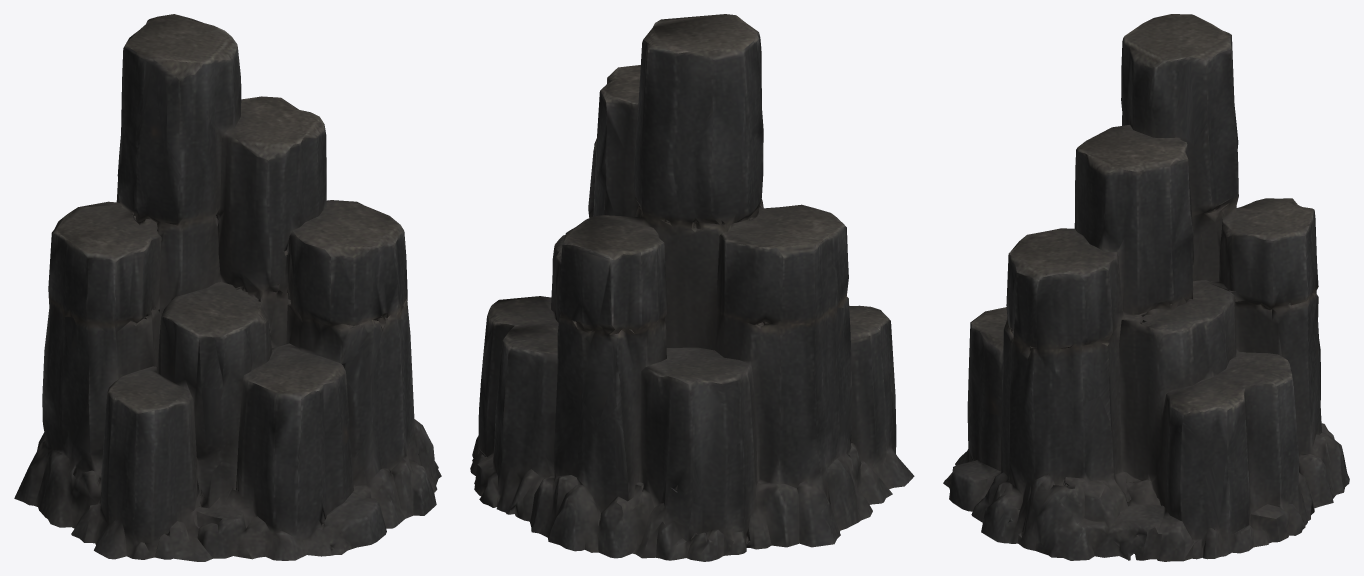
3 views of the same model, side by side, from view 1: azimuth 30°, elevation 25°; view 2: azimuth 150°, elevation 25°; view 3: azimuth 270°, elevation 25° (orthographic). The views are drawn at different scales.
Parts seen in each view (by area): view 1: volcanic-basalt-columns.001; view 2: volcanic-basalt-columns.001; view 3: volcanic-basalt-columns.001.
Boxes of the visible parts, bbox=[...] form: volcanic-basalt-columns.001: bbox=[14, 14, 441, 561]; volcanic-basalt-columns.001: bbox=[470, 14, 914, 561]; volcanic-basalt-columns.001: bbox=[943, 14, 1349, 561].
Size of the model in its own units: 3.86 by 4.6 by 3.95.
1 material, 1 textured.
